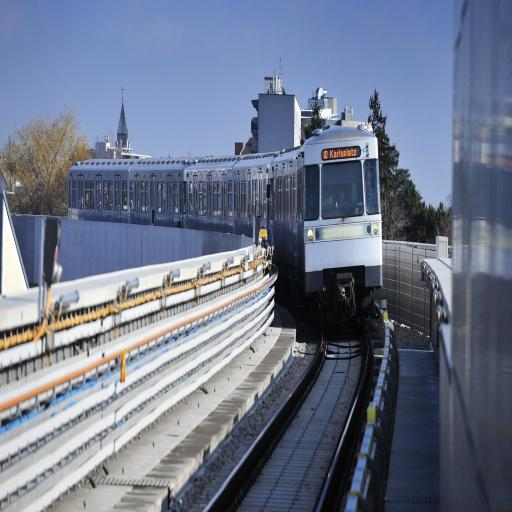Silberpfeil: (68, 115, 384, 321)
